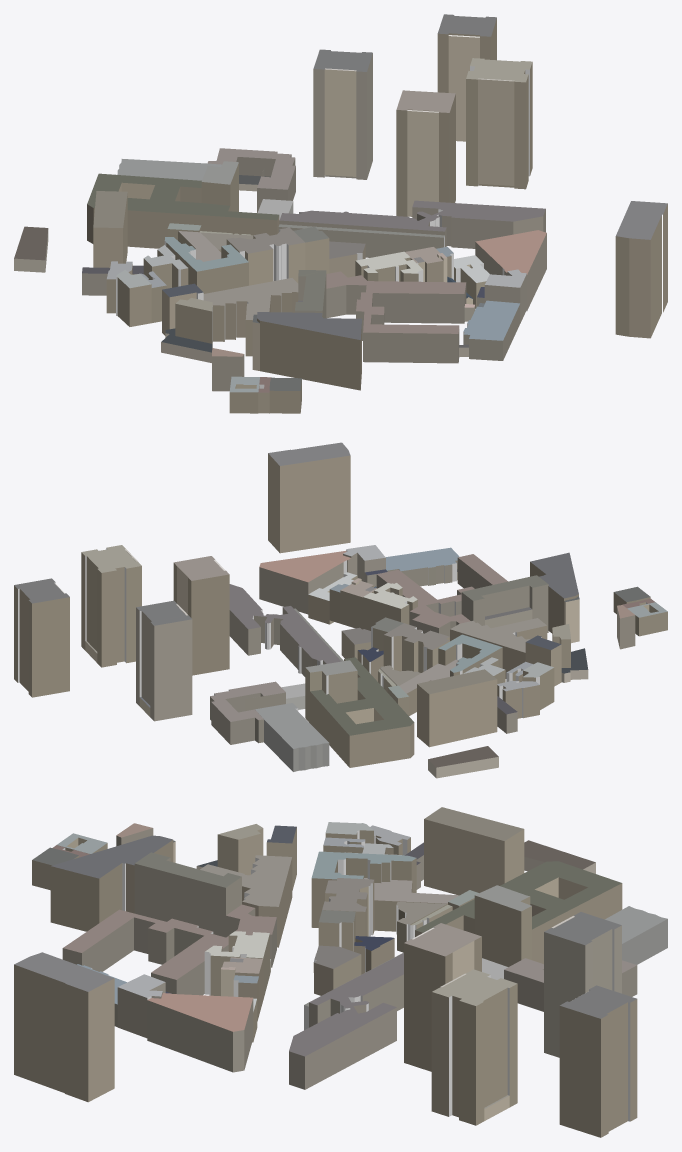
3 renders of one model, top to bottom at view 1: azimuth 30°, elevation 25°; view 2: azimuth 150°, elevation 25°; view 3: azimuth 270°, elevation 25°, orthographic. The views are drawn at different scales.
Parts seen in each view (by area): view 1: tuile; view 2: tuile; view 3: tuile.
Part boxes in pixels (x1=…): tuile: x1=14, y1=14, x2=667, y2=413; tuile: x1=14, y1=442, x2=667, y2=778; tuile: x1=14, y1=807, x2=667, y2=1137.
Bounding box in the file's own units: 277 × 56.23 × 272.
